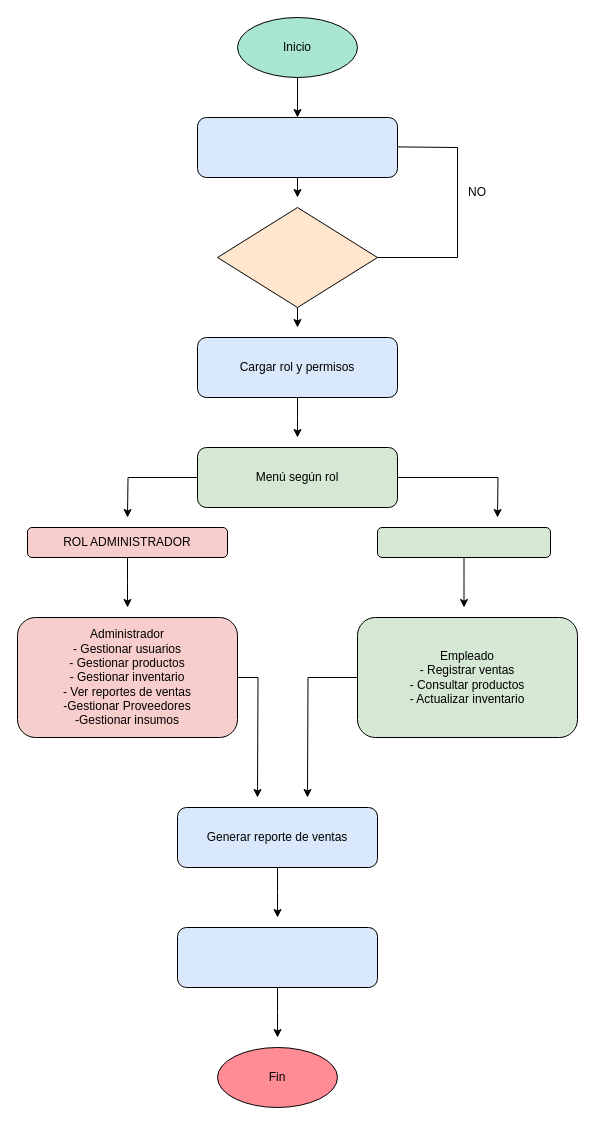
Some shapes in this 595 by 1125 pixel diagram are drawn without their labels. Each missing label, with the centre of its shape:
"Cerrar sesión" belongs at pixel 277 957.
"Iniciar sesión (usuario + contraseña)" belongs at pixel 297 147.
"ROL EMPLEADO" belongs at pixel 463 542.
"¿Credenciales válidas?" belongs at pixel 297 257.
